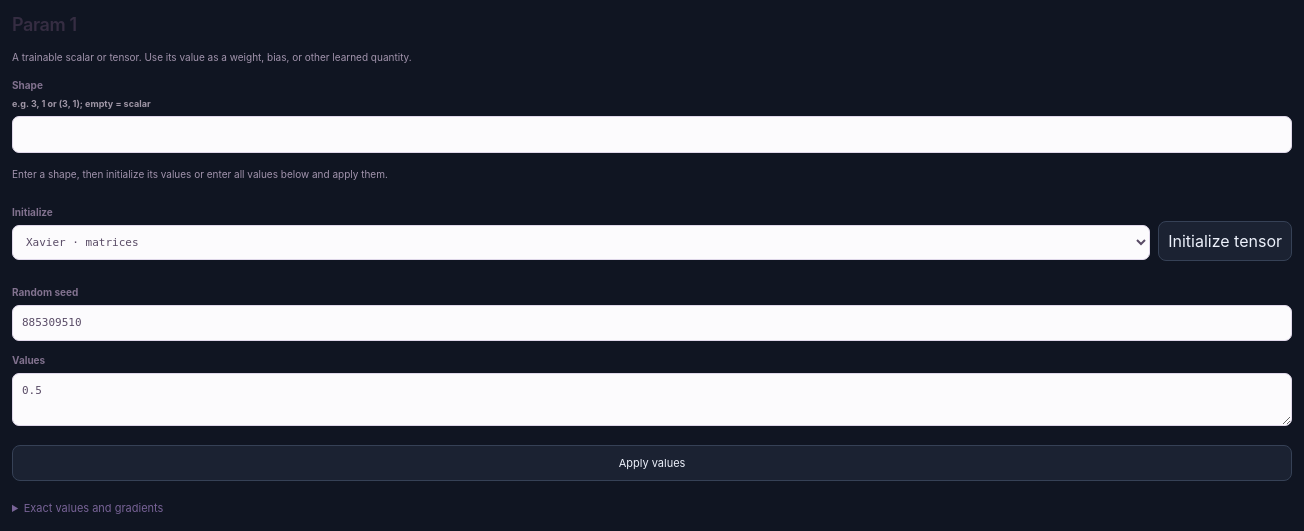
scratch model authoring controls › accepts parenthesized parameter shapes and initializes every entry on Enter
Type "(3,1)" into the field named "Tensor shape" at (652, 134), box [12, 116, 1292, 153]
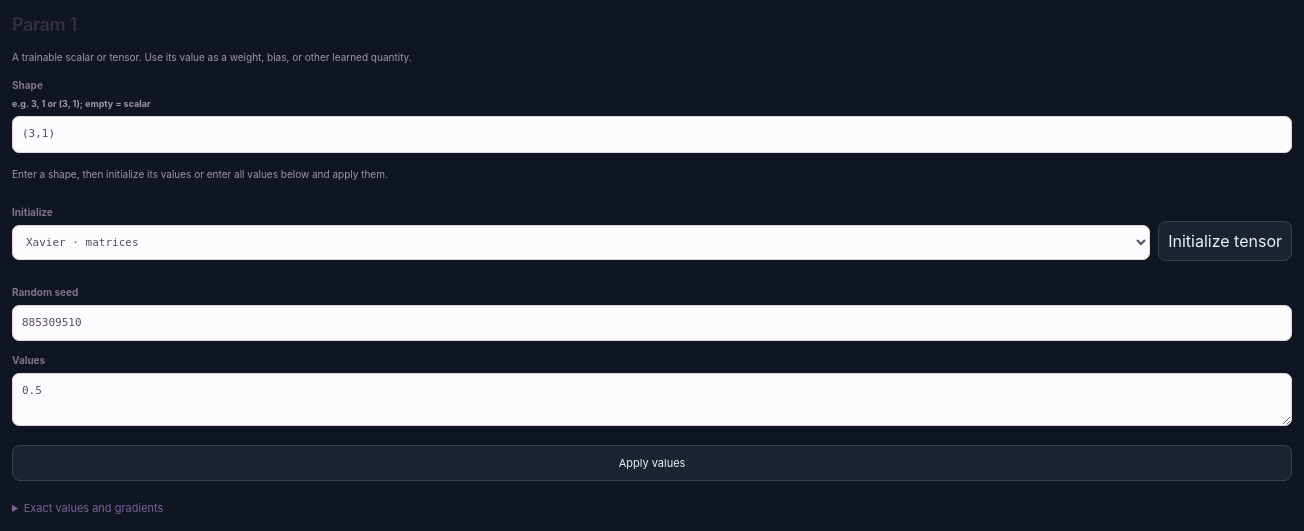
Press Enter in the field named "Tensor shape", box [12, 116, 1292, 153]
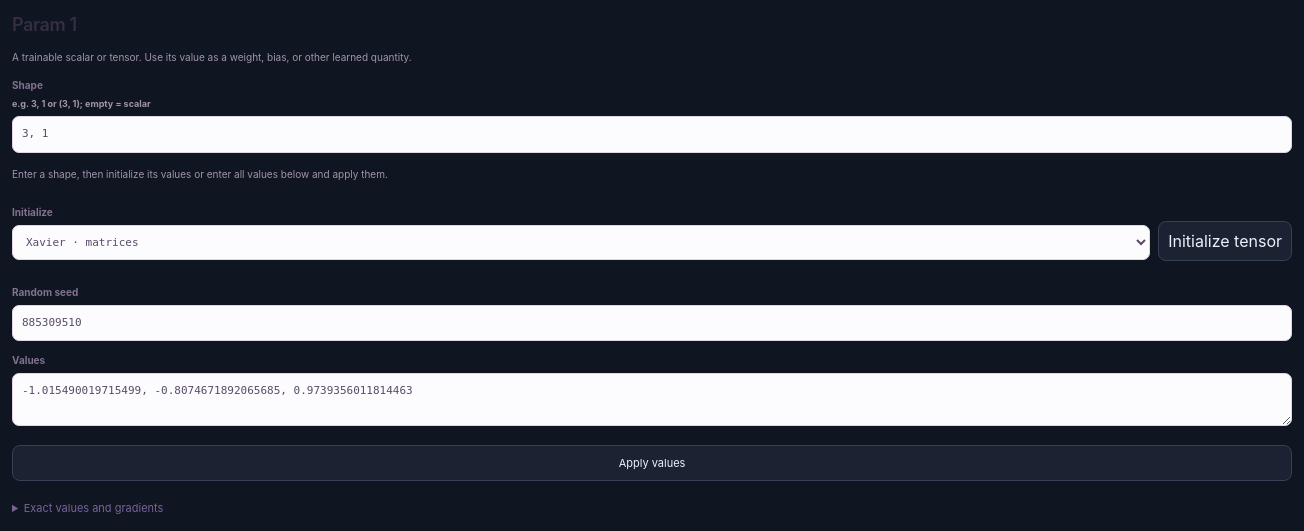
Expected: the field named "Tensor shape" holds "3, 1", [12, 116, 1292, 153]
